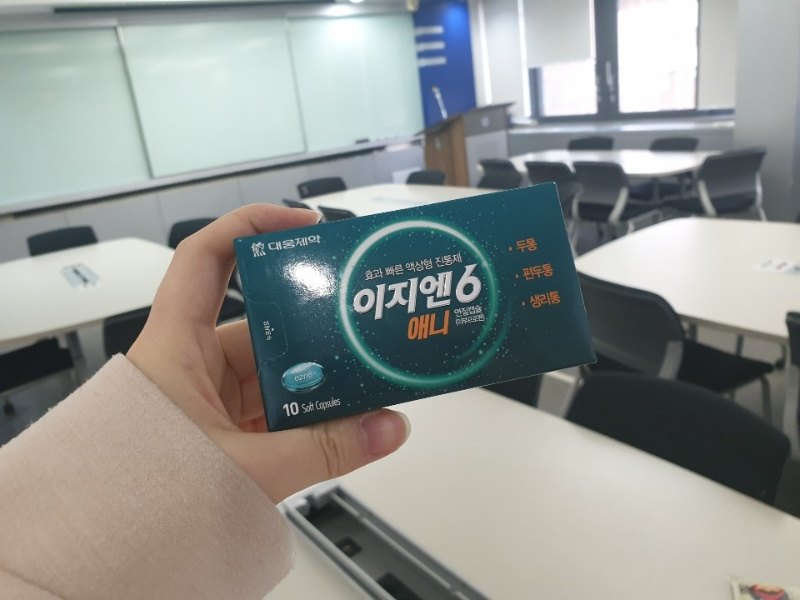ezn: (233, 182, 596, 432)
